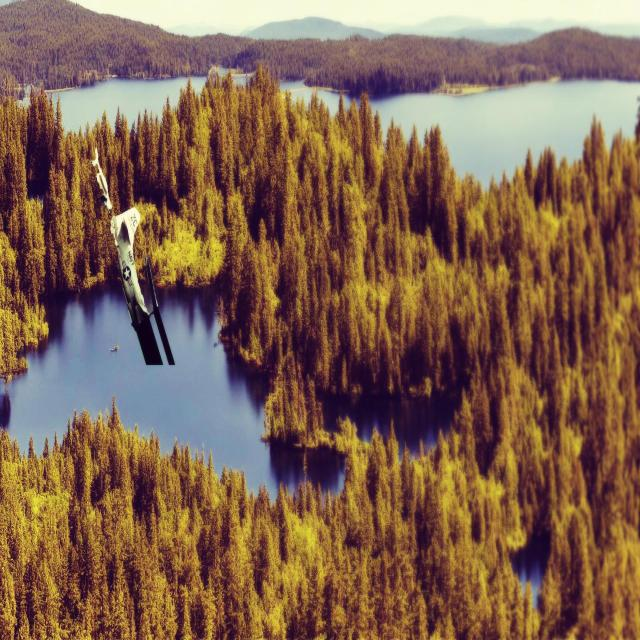airplane: (91, 145, 175, 366)
